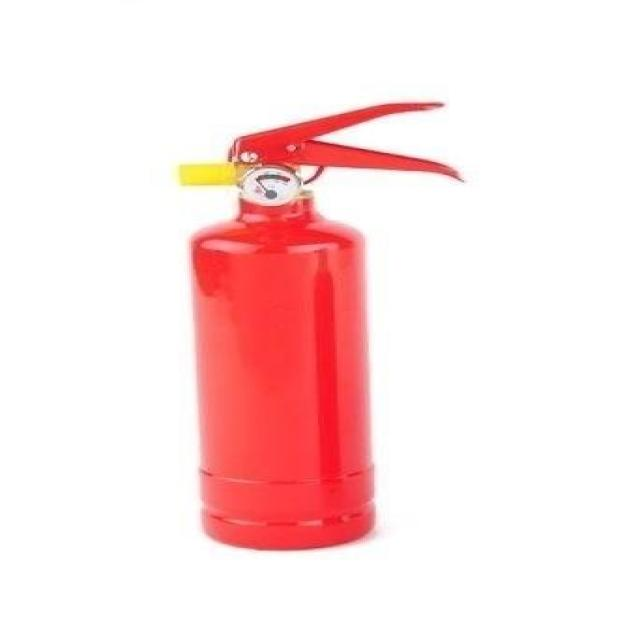fire_extinguisher: (168, 96, 470, 554)
